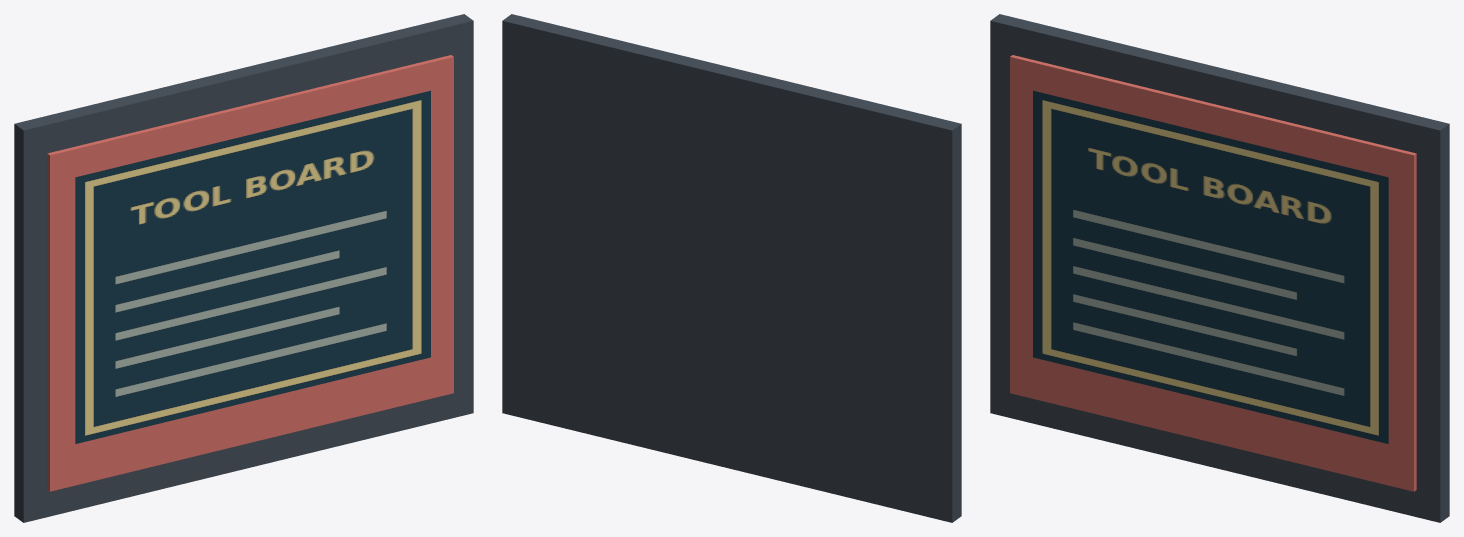
The model's file is tool_board.glb.
3 renders of one model, left to right at view 1: azimuth 30°, elevation 25°; view 2: azimuth 150°, elevation 25°; view 3: azimuth 330°, elevation 25°, orthographic.
Bounding box in the file's own units: 1.18 × 0.98 × 0.0628.
2 materials, 2 textured.
